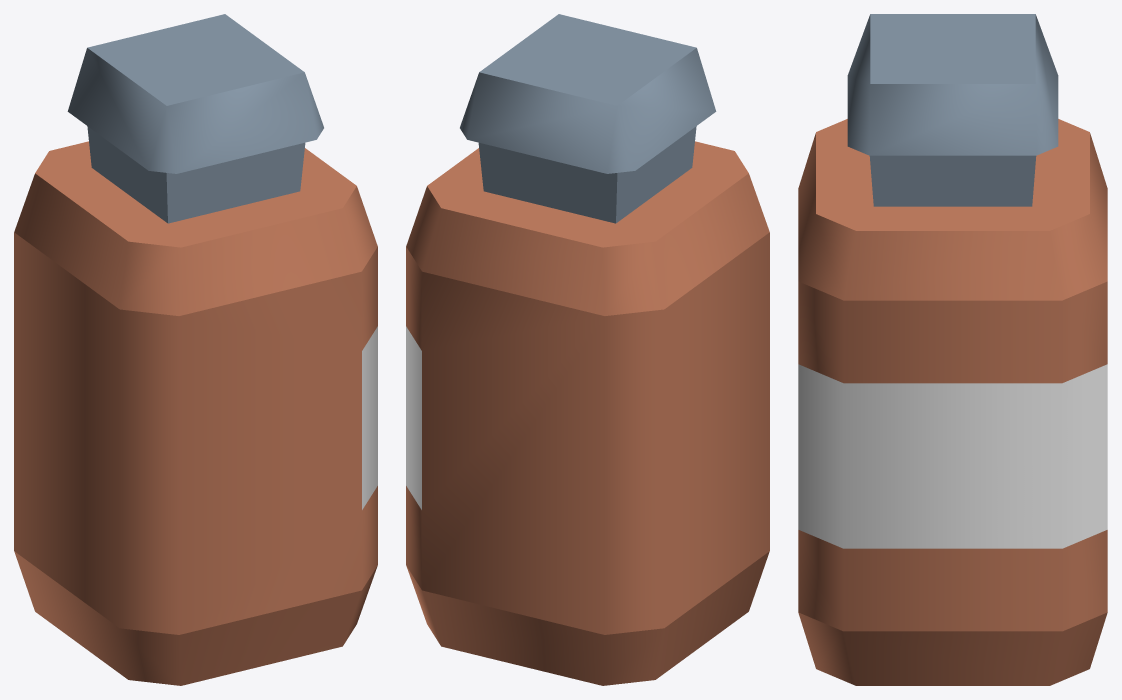
The model's file is shakerSalt.obj.
The picture shows the model from 3 angles, left to right: view 1: azimuth 30°, elevation 25°; view 2: azimuth 150°, elevation 25°; view 3: azimuth 270°, elevation 25°; orthographic projection. The views are drawn at different scales.
Visible parts, largest first — view 1: shakerSalt; view 2: shakerSalt; view 3: shakerSalt.
Part boxes in pixels (x1=…): shakerSalt: x1=14, y1=14, x2=377, y2=685; shakerSalt: x1=406, y1=14, x2=769, y2=685; shakerSalt: x1=798, y1=14, x2=1107, y2=685.
Bounding box in the file's own units: 0.0949 × 0.196 × 0.0949.
